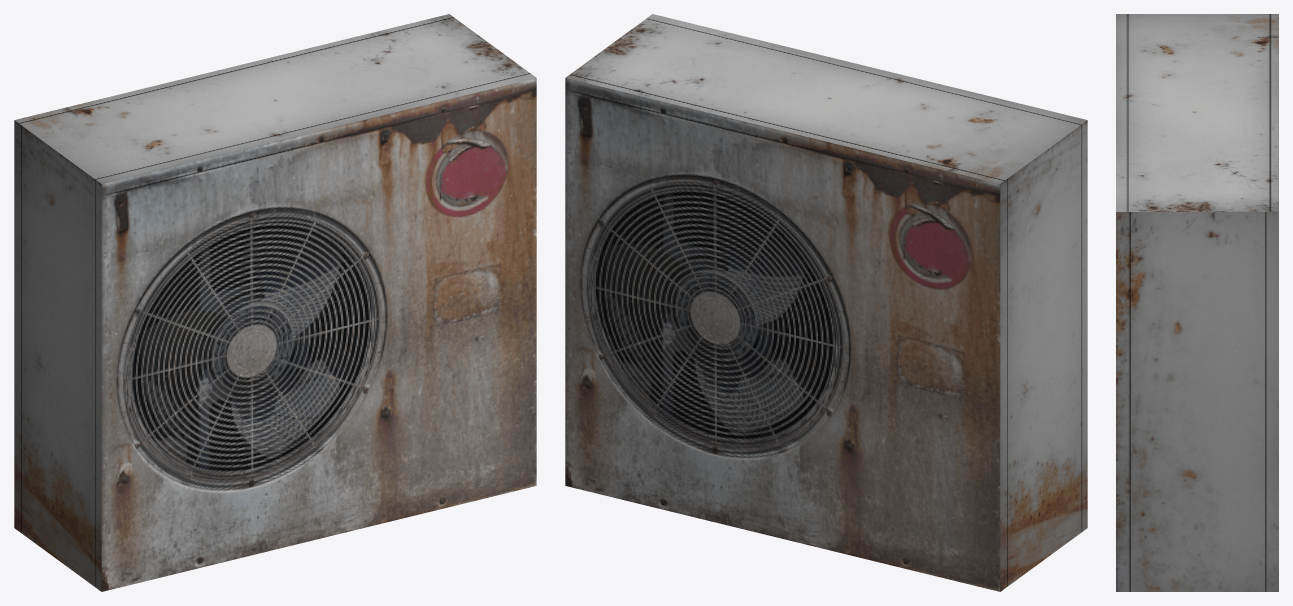
Rendered from Air_03.fbx.
3 views of the same model, side by side, from view 1: azimuth 30°, elevation 25°; view 2: azimuth 150°, elevation 25°; view 3: azimuth 270°, elevation 25° (orthographic). The views are drawn at different scales.
Visible parts, largest first — view 1: Air_03; view 2: Air_03; view 3: Air_03.
Part boxes in pixels (bbox=[...]): Air_03: bbox=[14, 14, 536, 591]; Air_03: bbox=[565, 14, 1087, 591]; Air_03: bbox=[1116, 14, 1278, 591].
Bounding box in the file's own units: 94.59 × 32.91 × 84.72.
Materials: 1 (1 with a texture image).
